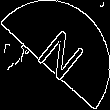N_SW: (25, 22, 85, 88)
